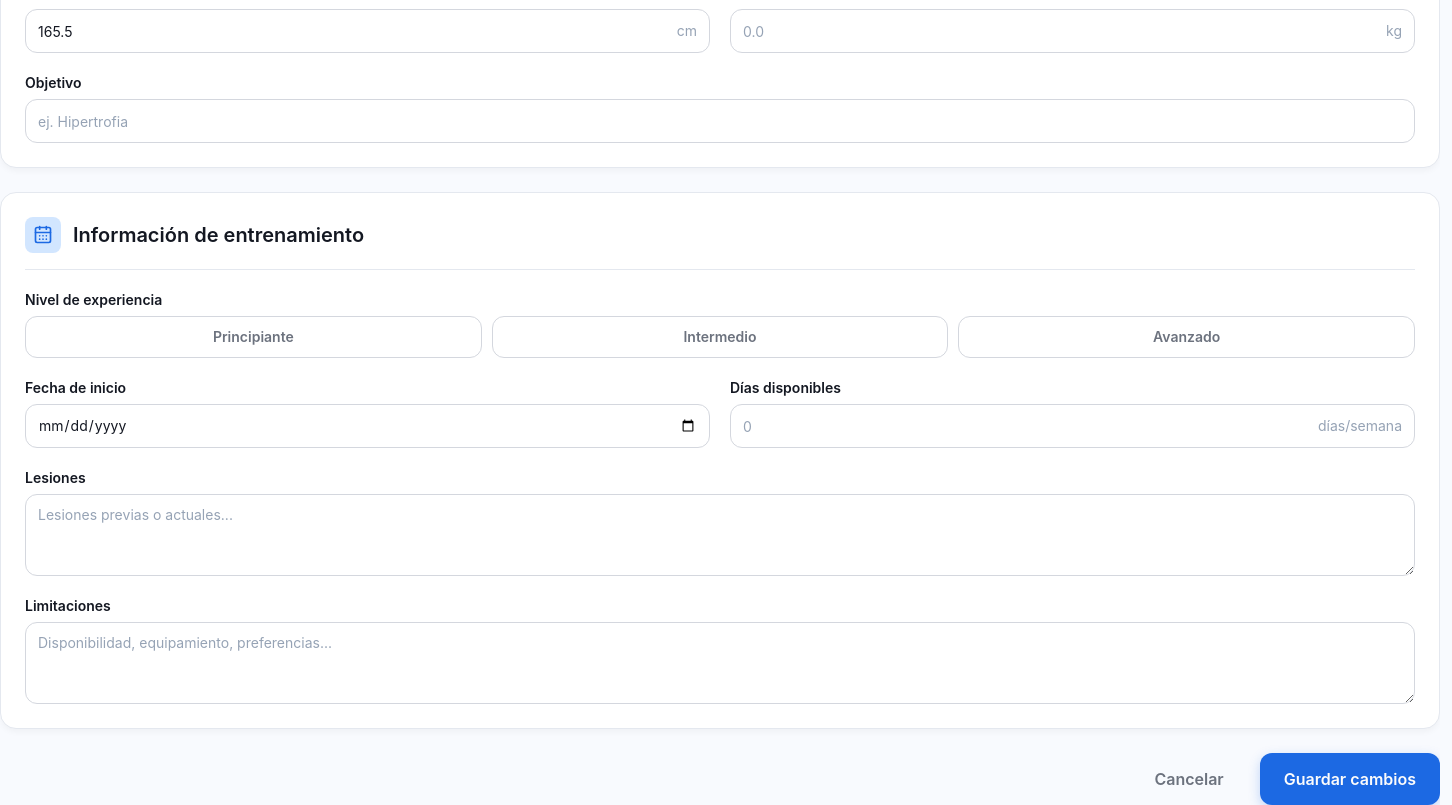
Test: AthleteForm › un error del backend en un campo oculto va al aviso general
The image size is (1452, 805).
(page scrolled)
Click the button "Guardar cambios". click: click(1350, 779)
box: [1260,753,1440,804]
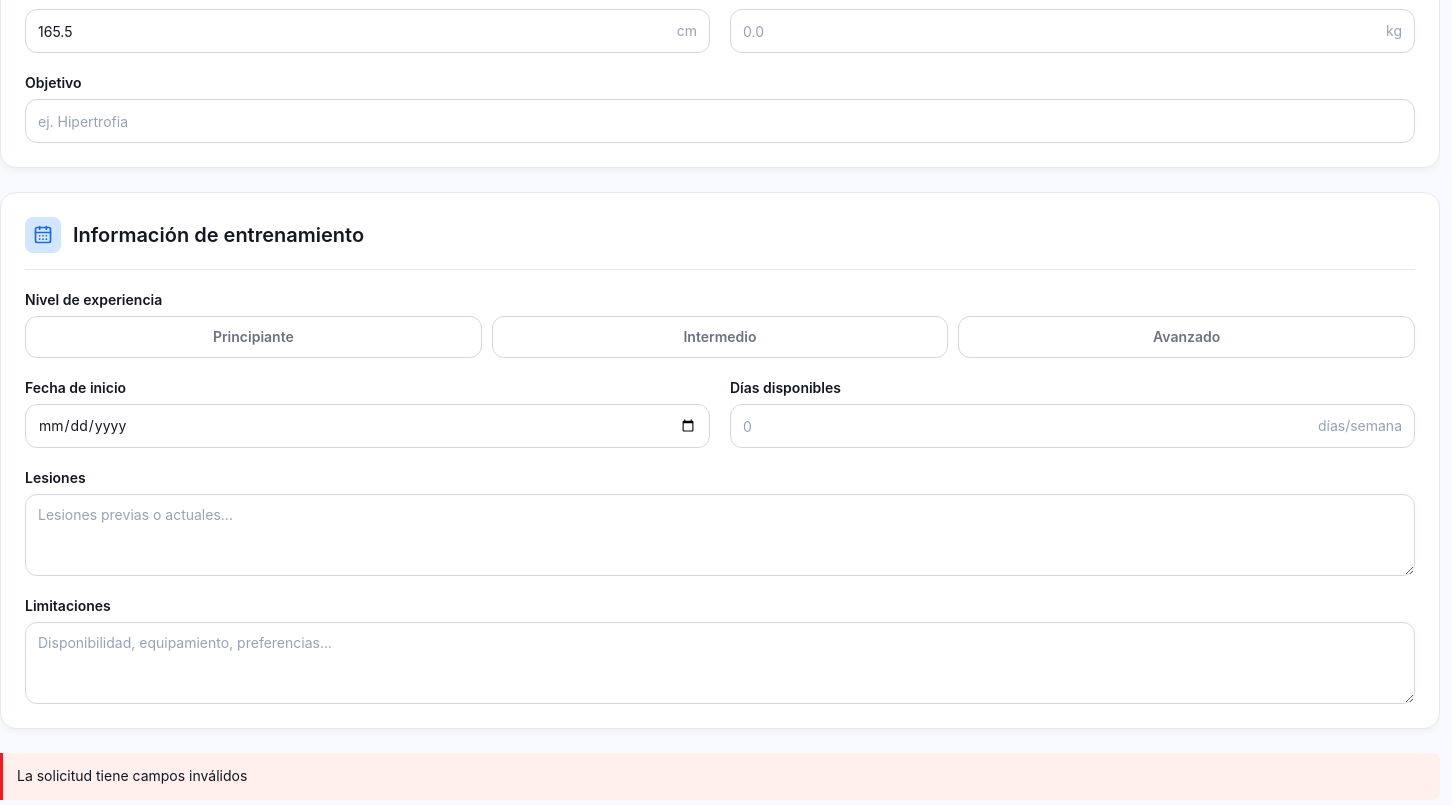
Result: the message reads "La solicitud tiene campos inválidos" at [17,767,247,784]
